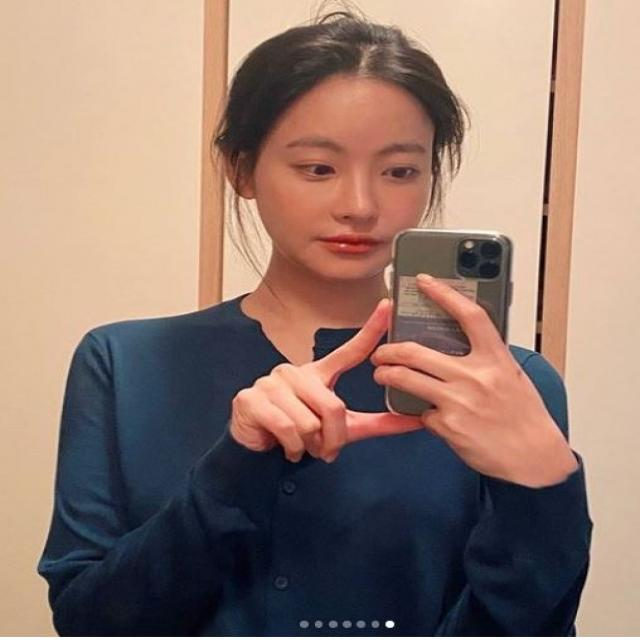phone: (386, 228, 512, 414)
